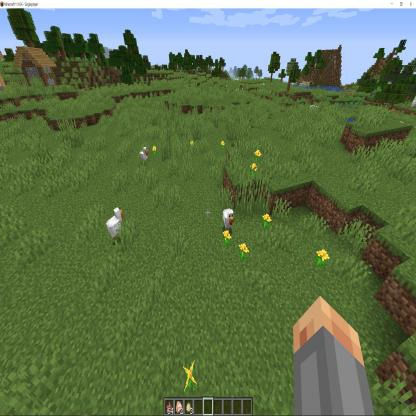minecraft-pigs: (104, 205, 125, 245), (221, 203, 235, 240), (136, 144, 150, 170)
